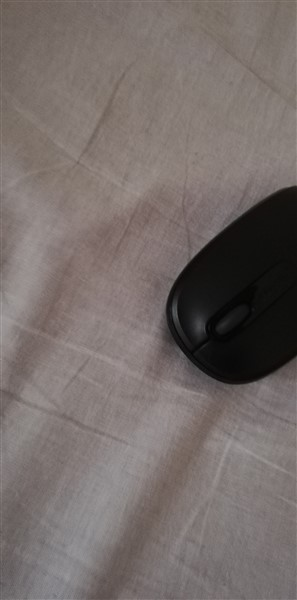mouse: (163, 175, 297, 389)
